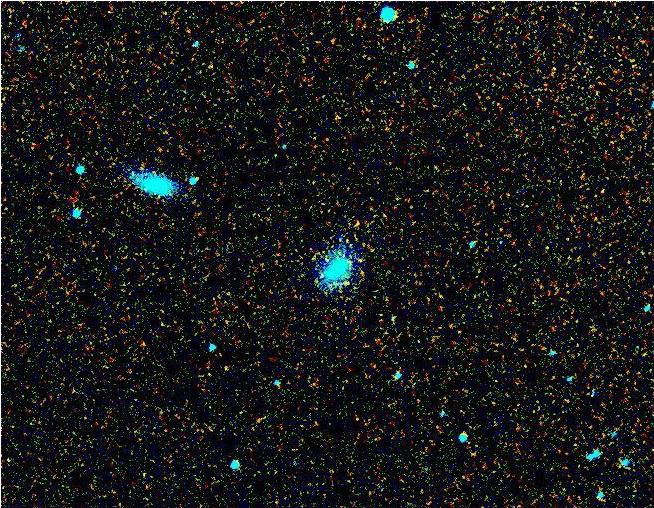star: (144, 134, 174, 164)
